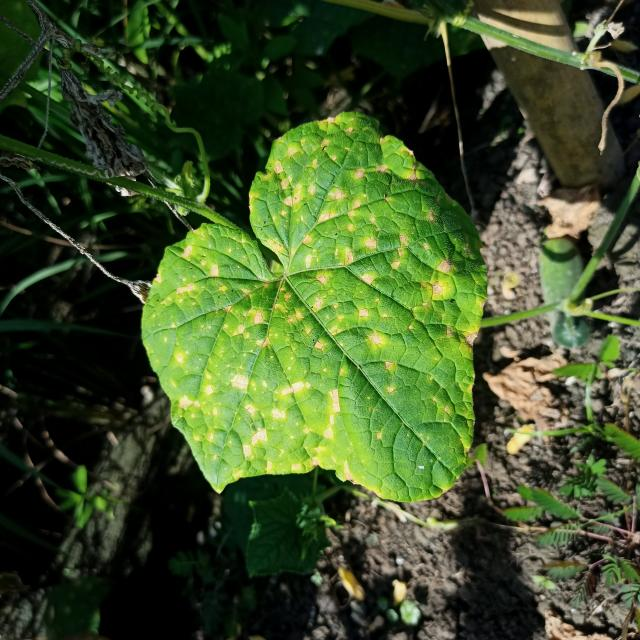disease_cucumber: (148, 116, 480, 500)
